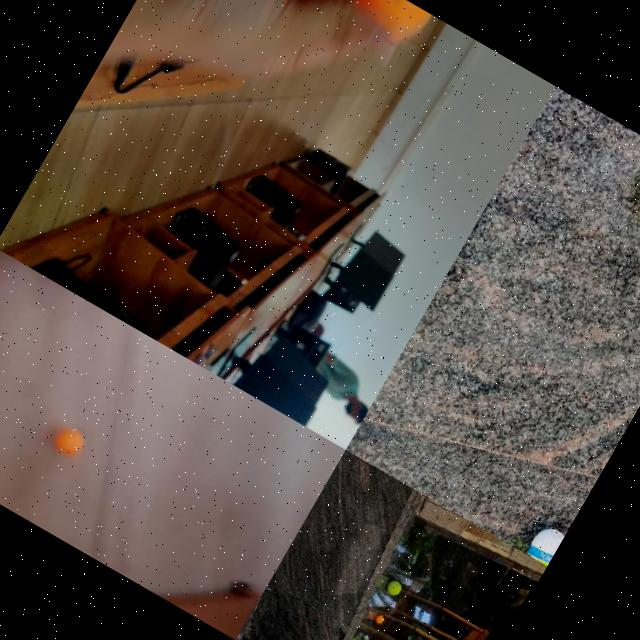ping-pong-ball: (338, 0, 431, 53), (44, 420, 89, 463), (374, 614, 384, 626)
